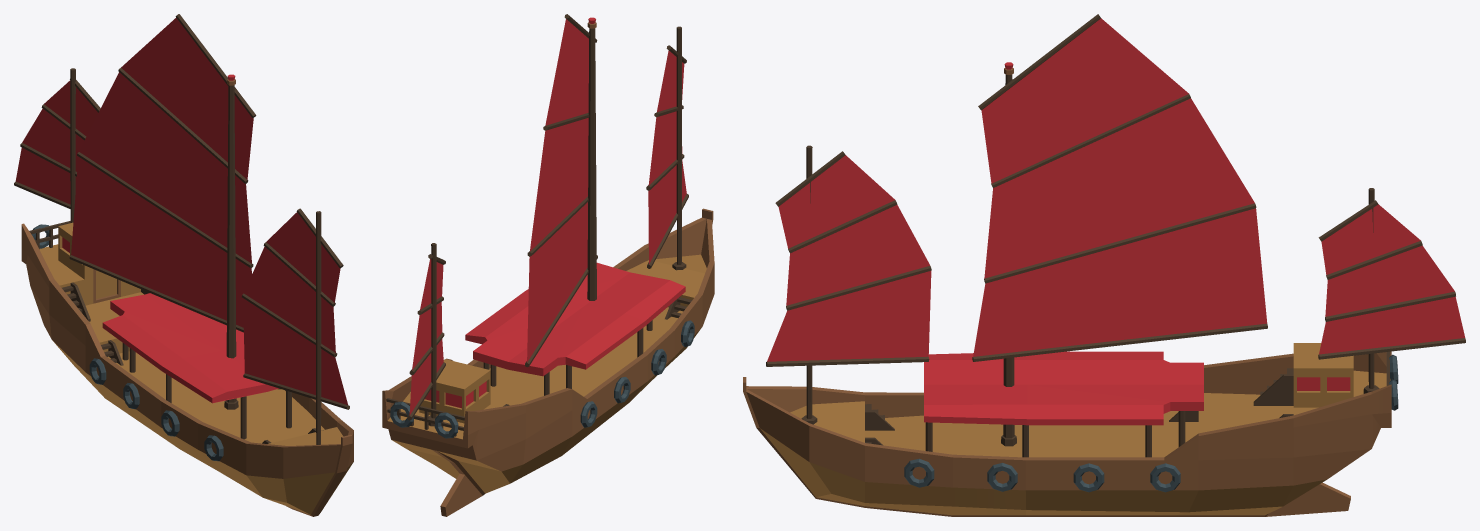
File: vehicles_boat-china.fbx
3 views of the same model, side by side, from view 1: azimuth 30°, elevation 25°; view 2: azimuth 150°, elevation 25°; view 3: azimuth 270°, elevation 25° (orthographic). The views are drawn at different scales.
Parts seen in each view (by area): view 1: vehicles_boat_china; view 2: vehicles_boat_china; view 3: vehicles_boat_china.
Part boxes in pixels (box(x1,y1,x2,y2)): vehicles_boat_china: box(14, 14, 353, 516); vehicles_boat_china: box(382, 14, 714, 516); vehicles_boat_china: box(743, 14, 1465, 516).
Bounding box in the file's own units: 49.45 × 151 × 200.
